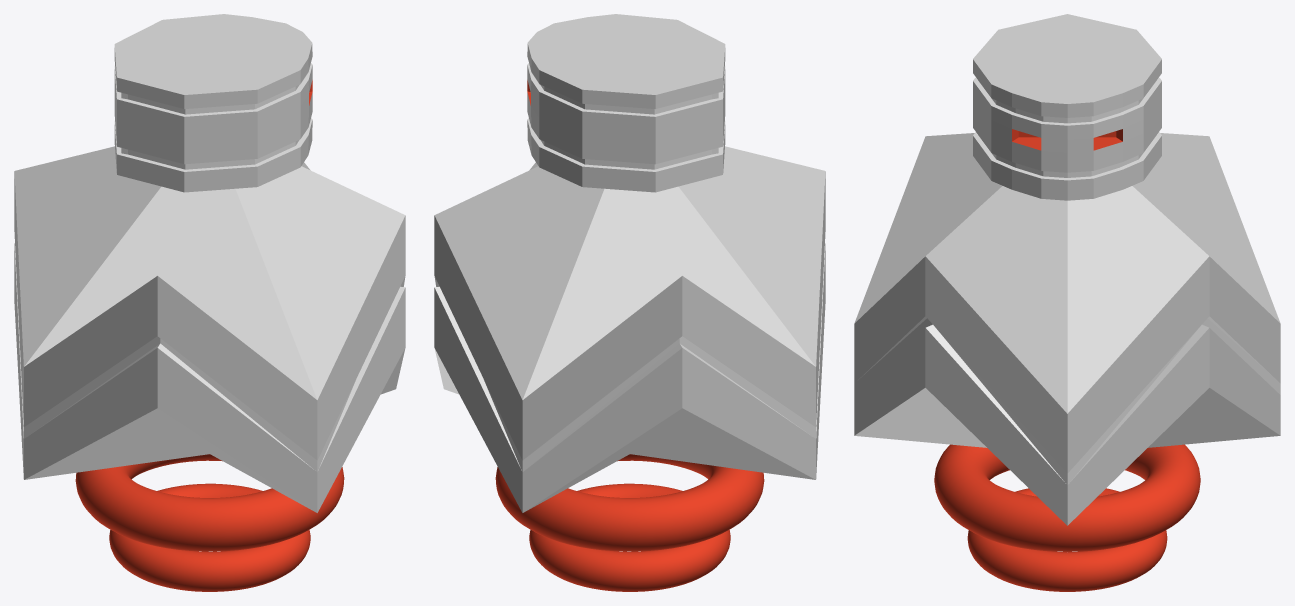
The model's file is Robot.fbx.
The picture shows the model from 3 angles, left to right: view 1: azimuth 30°, elevation 25°; view 2: azimuth 150°, elevation 25°; view 3: azimuth 270°, elevation 25°; orthographic projection.
Visible parts, largest first — view 1: Body, Cube, Torus, Torus.001; view 2: Body, Cube, Torus, Torus.001; view 3: Body, Cube, Torus, Torus.001.
Boxes of the visible parts, <box> form: Body: <box>14,146,405,512</box>; Cube: <box>114,14,312,192</box>; Torus: <box>75,454,344,551</box>; Torus.001: <box>109,483,310,591</box>; Body: <box>434,146,825,512</box>; Cube: <box>527,14,725,192</box>; Torus: <box>495,454,764,551</box>; Torus.001: <box>529,483,730,591</box>; Body: <box>854,133,1280,525</box>; Cube: <box>973,14,1161,200</box>; Torus: <box>934,444,1200,551</box>; Torus.001: <box>967,488,1167,591</box>.
Size of the model in its own units: 1 by 1.29 by 1.
